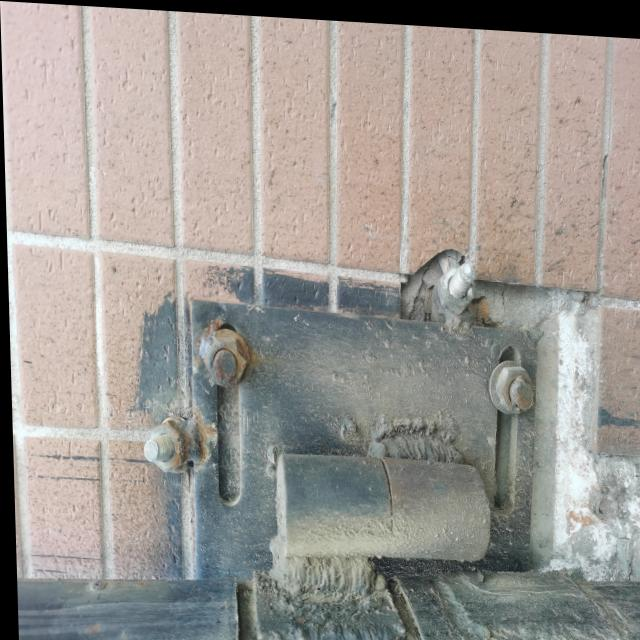Rusty bolt: (141, 416, 185, 471), (204, 332, 247, 387), (494, 358, 532, 407)
